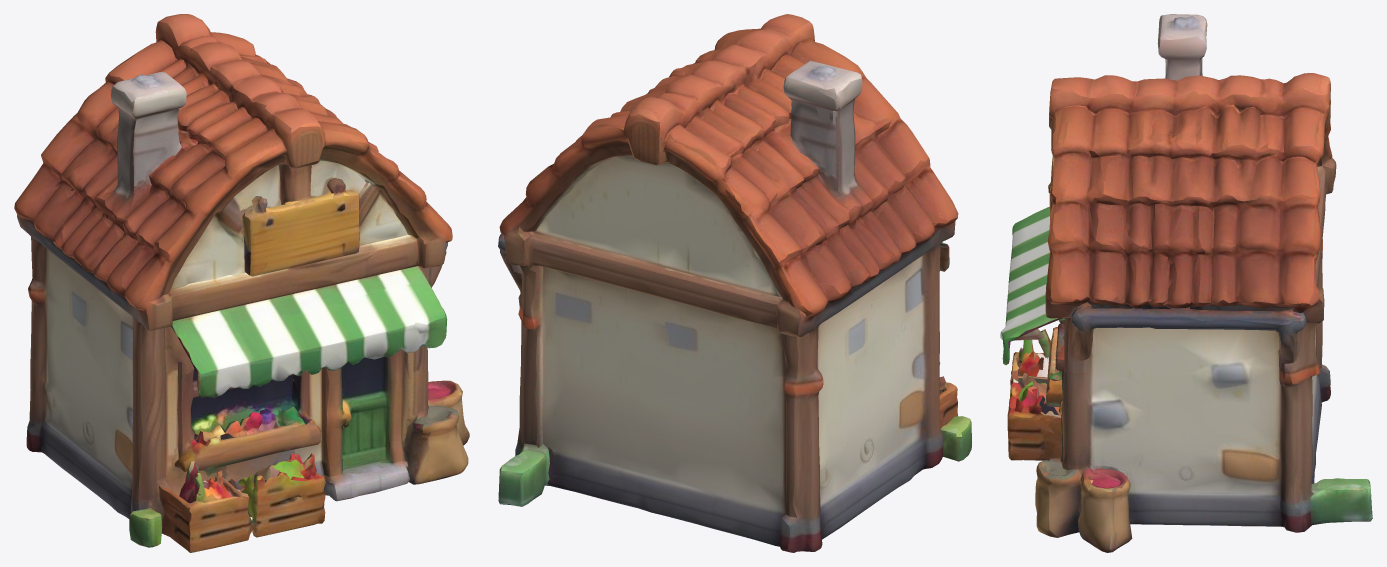
Rendered from store.glb.
3 renders of one model, left to right at view 1: azimuth 30°, elevation 25°; view 2: azimuth 150°, elevation 25°; view 3: azimuth 270°, elevation 25°, orthographic. The views are drawn at different scales.
Visible parts, largest first — view 1: store_s15; view 2: store_s15; view 3: store_s15.
Part boxes in pixels (<box>): store_s15: <box>14,14,469,552</box>; store_s15: <box>498,14,971,552</box>; store_s15: <box>1000,14,1372,552</box>.
Bounding box in the file's own units: 0.9321 × 1 × 0.8443.
Materials: 1 (1 with a texture image).
